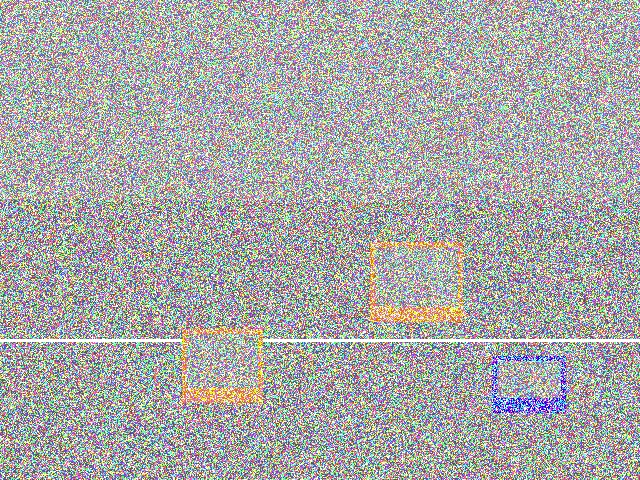bus: (212, 150, 372, 258)
truck: (227, 174, 314, 236)
